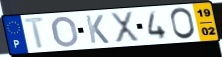4: (147, 10, 168, 41)
K: (83, 14, 111, 45)
O: (51, 15, 80, 48), (169, 7, 197, 41)
T: (22, 16, 48, 51)
X: (109, 10, 141, 44)
